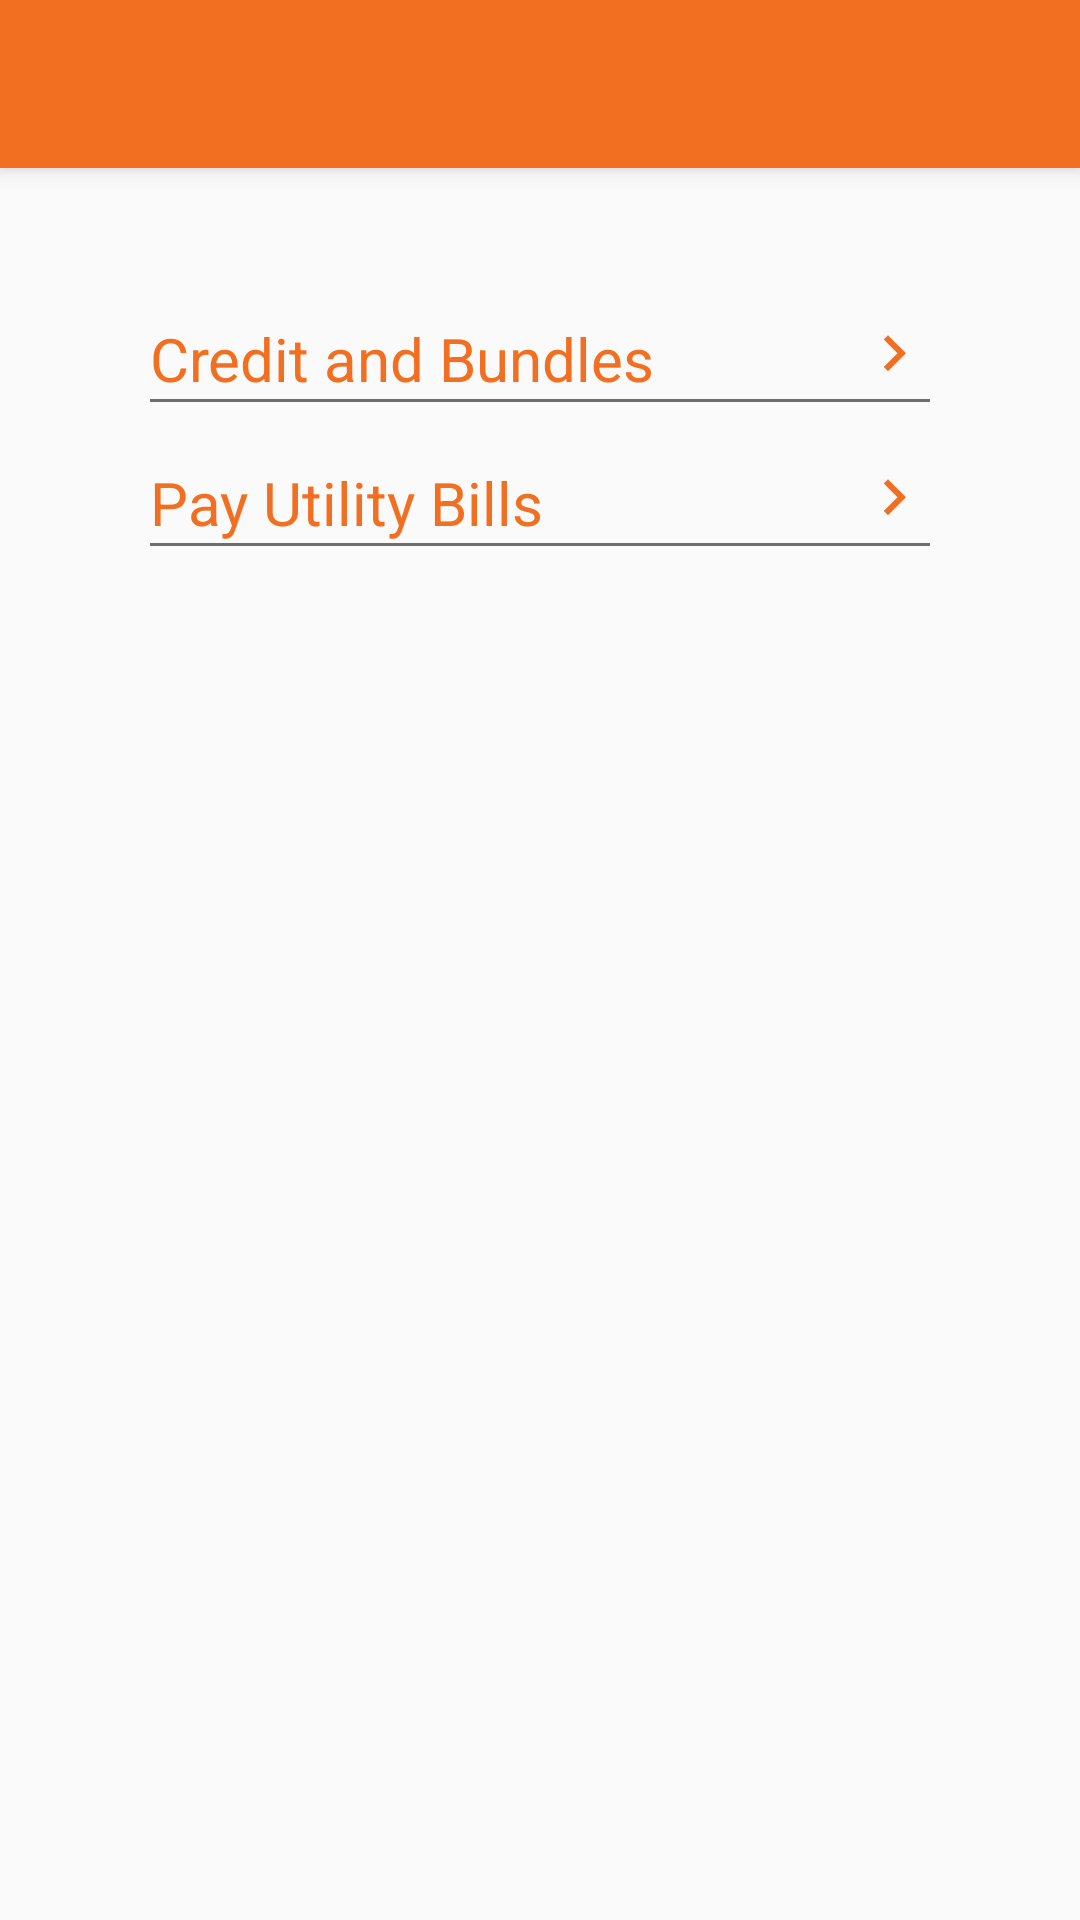

Locate icon controls on the screen. Image size 1080w x 1920h, boxes as (x1, y1, x2, y2).
arrow right: (884, 335, 906, 371), (884, 479, 906, 515)
